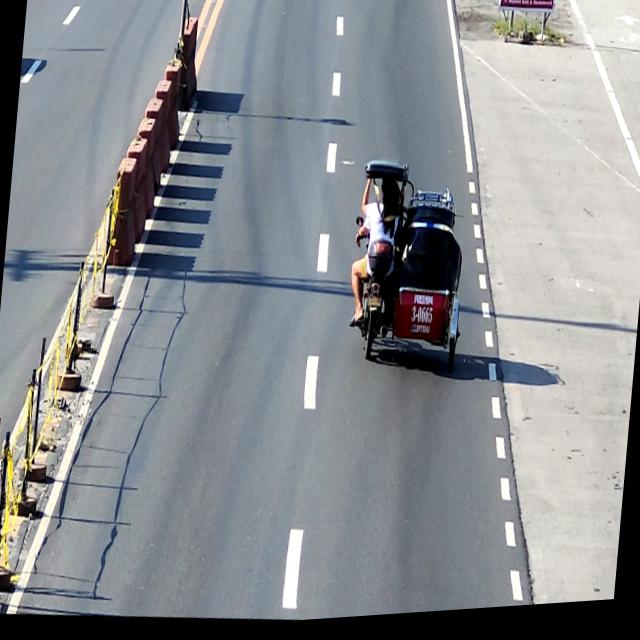License-Plate: (367, 299, 382, 313)
Tricycle: (342, 156, 476, 381)
